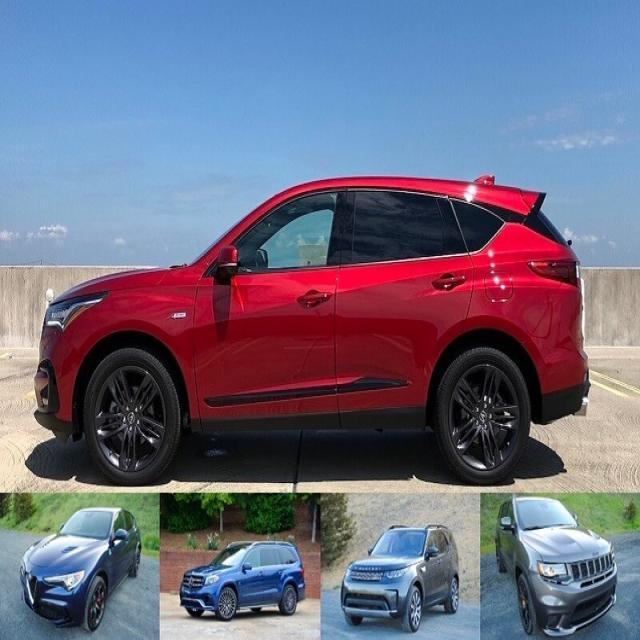pickup: (18, 506, 144, 628)
sedan: (33, 174, 594, 486), (496, 495, 618, 638), (338, 523, 461, 631), (177, 539, 306, 620)
